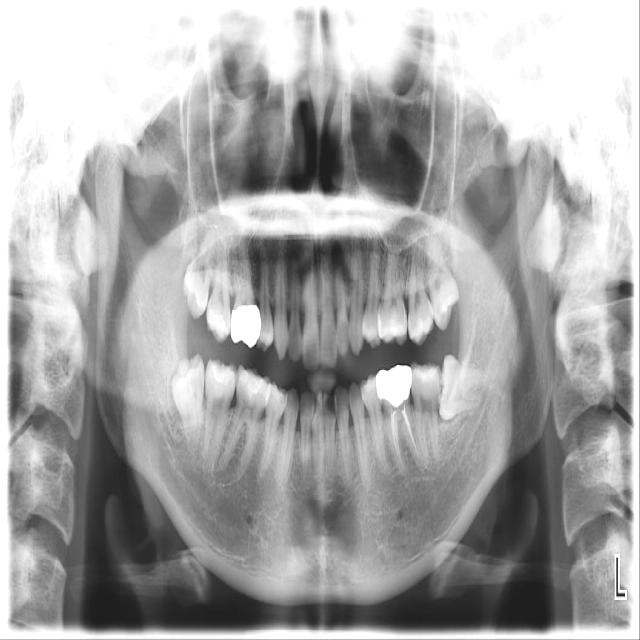Crown: (376, 365, 412, 414), (230, 303, 261, 348)
Filling: (240, 370, 269, 399), (208, 360, 233, 387), (272, 384, 287, 404)
Periapical lesion: (211, 450, 240, 482), (413, 461, 427, 475), (255, 472, 267, 488)
Root Canal Treatment: (401, 409, 419, 459), (391, 411, 402, 464)
impacted tooth: (438, 358, 494, 419), (172, 354, 205, 449)
